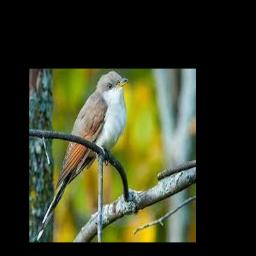Cuckoo: (35, 70, 128, 242)
